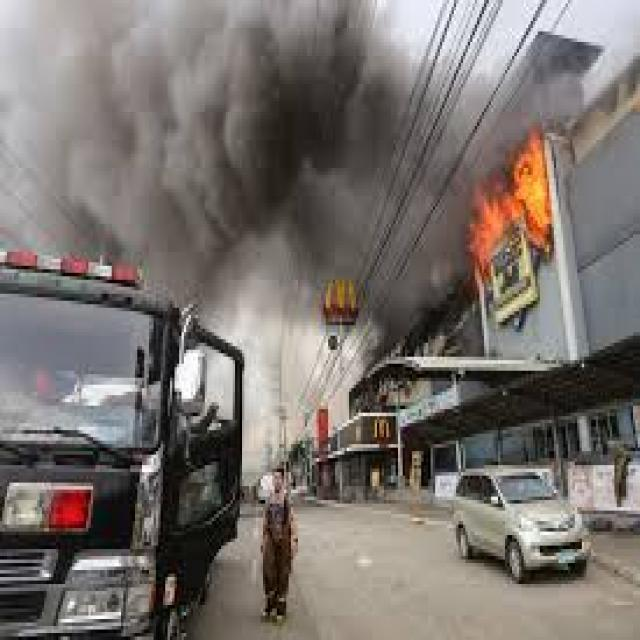Fire: (471, 133, 554, 280)
Smoke: (2, 0, 469, 357), (469, 50, 589, 130)
